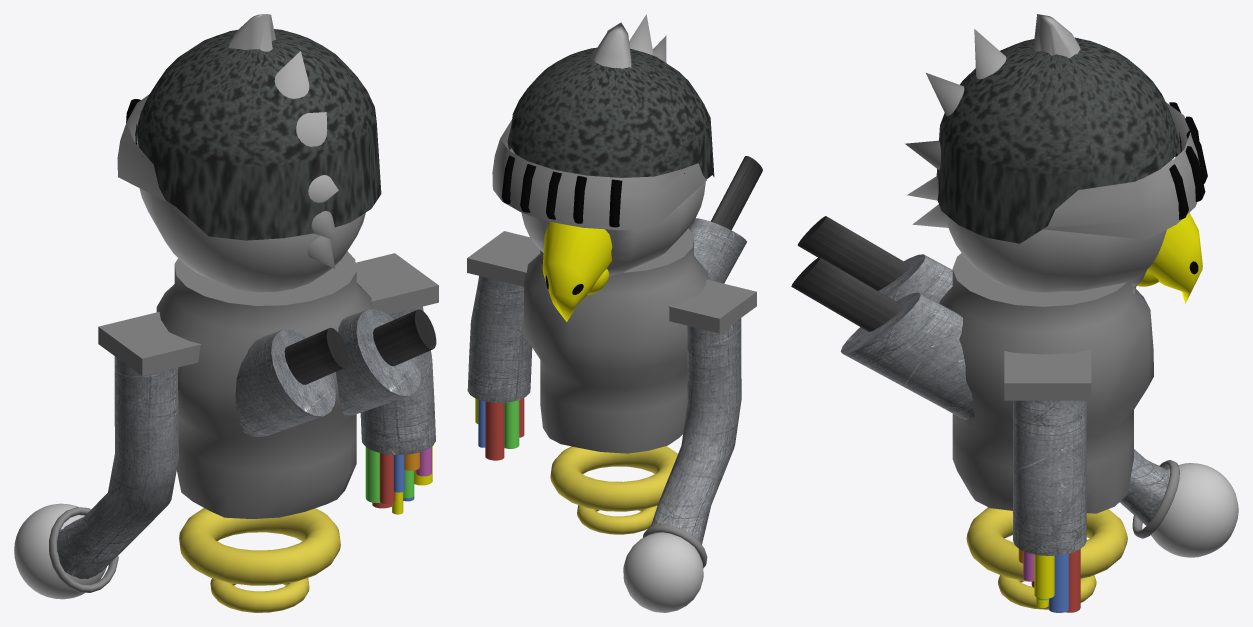
File: Enemy 1.fbx
The picture shows the model from 3 angles, left to right: view 1: azimuth 30°, elevation 25°; view 2: azimuth 150°, elevation 25°; view 3: azimuth 270°, elevation 25°; orthographic projection. The views are drawn at different scales.
Parts seen in each view (by area): view 1: pSphere5, pCylinder1, pCylinder2, pSphere2, pTorus2, pCylinder5, pCylinder4, pCylinder3, pCube2, pSphere1, pCube1, pCylinder7 (+10 smaller); view 2: pCylinder1, pSphere5, pCylinder2, pSphere4, pCylinder3, pTorus2, pSphere2, pSphere1, pCone1, pCube2, pCube1, pCylinder5 (+10 smaller); view 3: pSphere5, pCylinder1, pSphere2, pCylinder3, pCylinder4, pSphere4, pSphere1, pTorus2, pCube1, pCylinder6, pCylinder7, pCone1 (+9 smaller).
Boxes of the visible parts, x1,y1,x2,y2 form: pSphere5: (136, 29, 381, 240); pCylinder1: (156, 251, 373, 518); pCylinder2: (57, 356, 178, 578); pSphere2: (139, 14, 365, 292); pTorus2: (179, 508, 340, 585); pCylinder5: (235, 329, 335, 437); pCylinder4: (335, 309, 420, 416); pCylinder3: (360, 306, 435, 454); pCube2: (98, 312, 201, 375); pSphere1: (14, 503, 106, 599); pCube1: (355, 253, 438, 314); pCylinder7: (284, 327, 348, 384); pCylinder1: (523, 228, 708, 453); pSphere5: (507, 47, 714, 179); pCylinder2: (650, 318, 741, 544); pSphere4: (492, 120, 706, 230); pCylinder3: (467, 276, 532, 402); pTorus2: (550, 446, 677, 511); pSphere2: (521, 22, 705, 276); pSphere1: (623, 532, 703, 612); pCone1: (542, 222, 612, 321); pCube2: (668, 279, 756, 333); pCube1: (467, 231, 540, 286); pCylinder5: (689, 218, 746, 283); pSphere5: (936, 37, 1179, 243); pCylinder1: (939, 253, 1153, 513); pSphere2: (944, 14, 1172, 293); pCylinder3: (1013, 400, 1086, 555); pCylinder4: (840, 292, 974, 419); pSphere4: (1043, 102, 1200, 239); pSphere1: (1151, 463, 1238, 557); pTorus2: (966, 507, 1127, 581); pCube1: (1004, 349, 1091, 400); pCylinder6: (791, 257, 903, 331); pCylinder7: (797, 216, 910, 290); pCone1: (1147, 213, 1202, 303).
Size of the model in its own units: 3.52 by 6 by 4.05.
33 materials, 7 textured.
